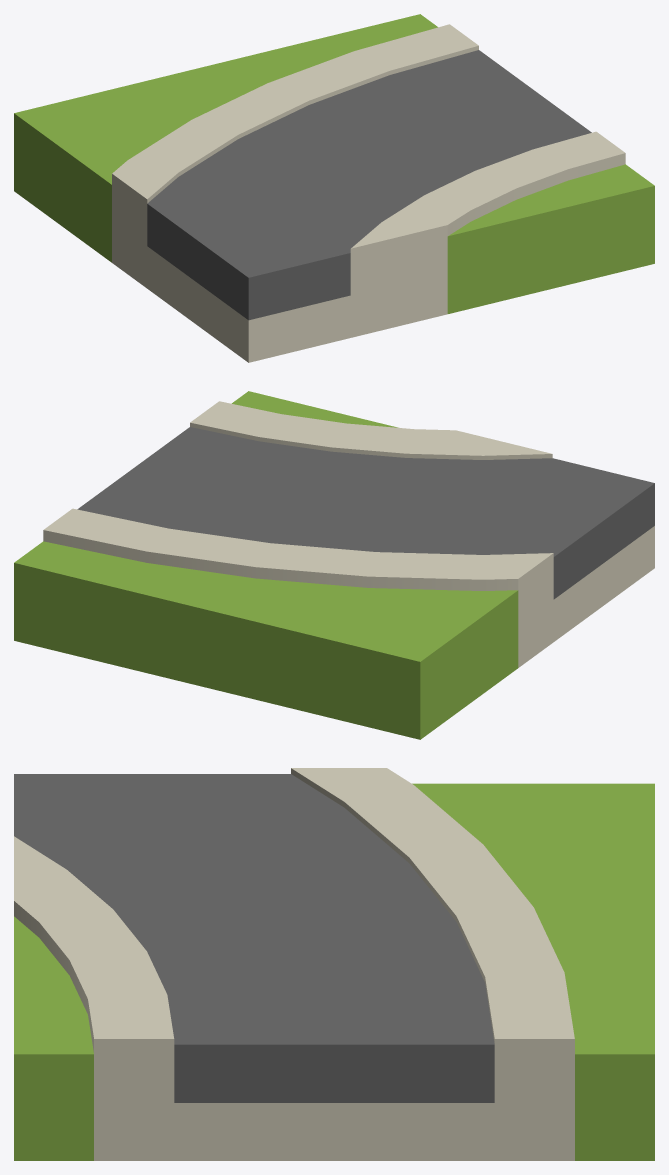
The model's file is tile149.dae.
3 views of the same model, one above another, from view 1: azimuth 30°, elevation 25°; view 2: azimuth 150°, elevation 25°; view 3: azimuth 270°, elevation 25° (orthographic). The views are drawn at different scales.
Visible parts, largest first — view 1: tile149; view 2: tile149; view 3: tile149.
Part boxes in pixels (x1,y1,x2,y2): tile149: (14,14,654,362); tile149: (14,391,654,739); tile149: (14,768,654,1160).
Size of the model in its own units: 1 by 0.21 by 1.
